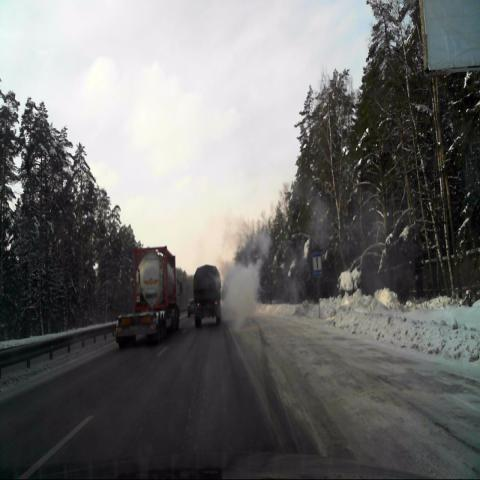7_4: (312, 253, 322, 277)
